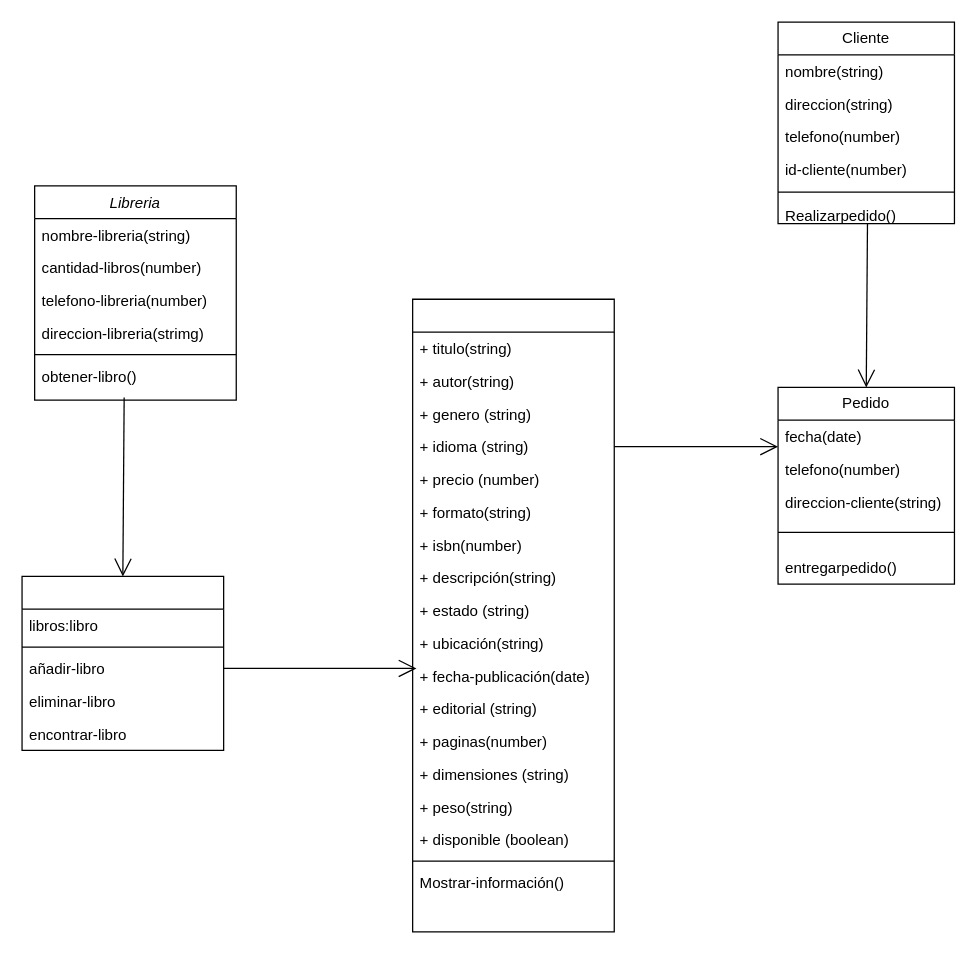
Image size: 977x954. Some labels were removed from this diagram. The box of each missing label's shape, as (x1, y1, x2, y2) in pixels:
Libro: (411, 298, 614, 932)
Listado: (21, 575, 224, 750)
